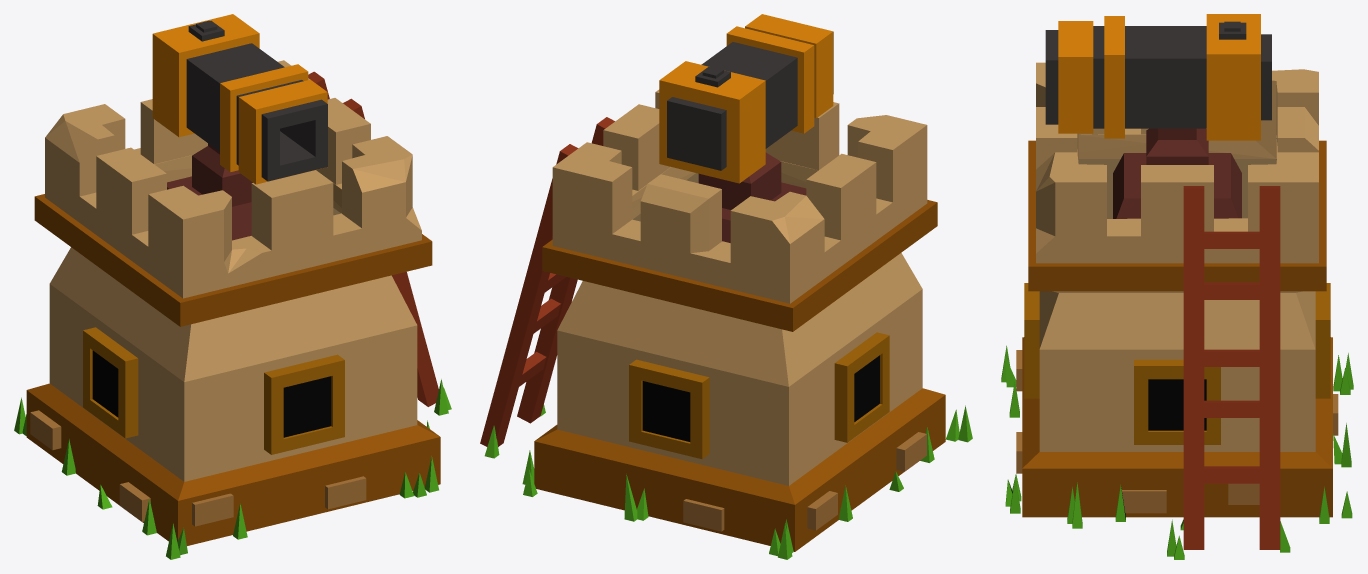
Rendered from MegaTower.fbx.
3 renders of one model, left to right at view 1: azimuth 30°, elevation 25°; view 2: azimuth 150°, elevation 25°; view 3: azimuth 270°, elevation 25°, orthographic. The views are drawn at different scales.
Parts seen in each view (by area): view 1: Turret_Tower_01, Turret; view 2: Turret_Tower_01, Turret; view 3: Turret_Tower_01, Turret.
Boxes of the visible parts, bbox=[...] form: Turret_Tower_01: bbox=[14, 60, 451, 559]; Turret: bbox=[152, 14, 327, 184]; Turret_Tower_01: bbox=[480, 89, 972, 559]; Turret: bbox=[659, 14, 833, 183]; Turret_Tower_01: bbox=[1001, 62, 1353, 559]; Turret: bbox=[1045, 14, 1271, 140].
Bounding box in the file's own units: 616 × 671 × 502.
1 material, 1 textured.
